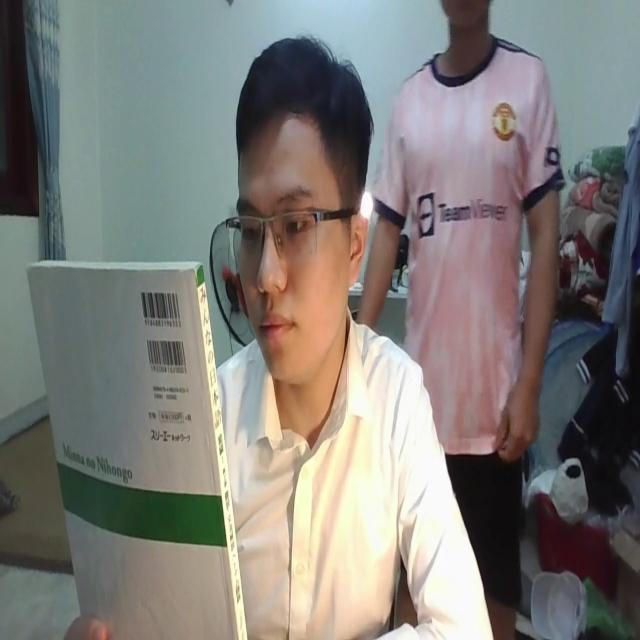book: (25, 239, 250, 640)
extra_person: (364, 0, 562, 640)
student: (216, 37, 504, 640)
